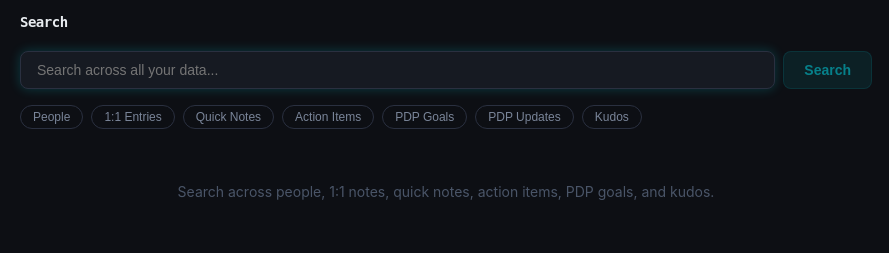
Test: SearchPage › should show empty state when no results
Type "nonexistent" into the field with test id "search-input" at coordinates (398, 70), box [20,51,775,89]
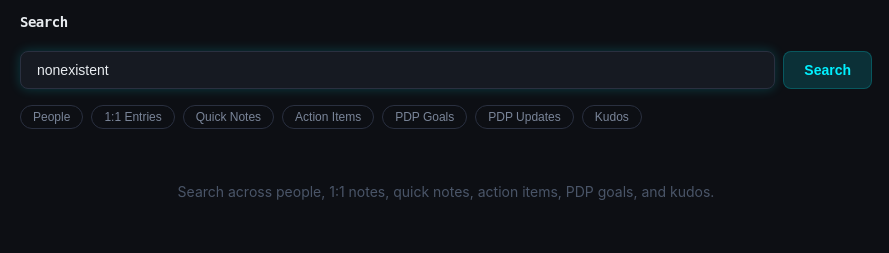
Submit the form with test id "search-input", box [20,51,872,89]
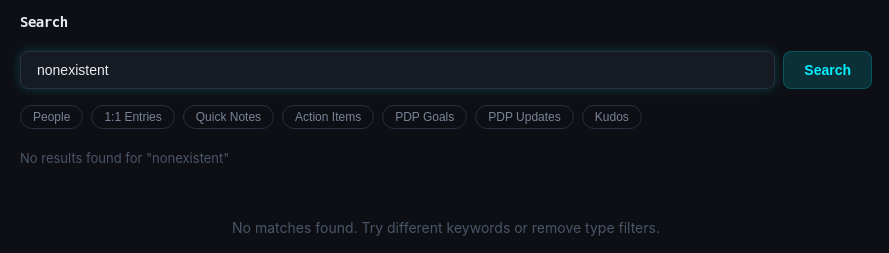
Now the element with test id "search-empty-state" is shown, box [232,219,660,236]
Now the text with test id "search-results-summary" reads "No results found for \"nonexistent\"", box [20,150,229,166]
